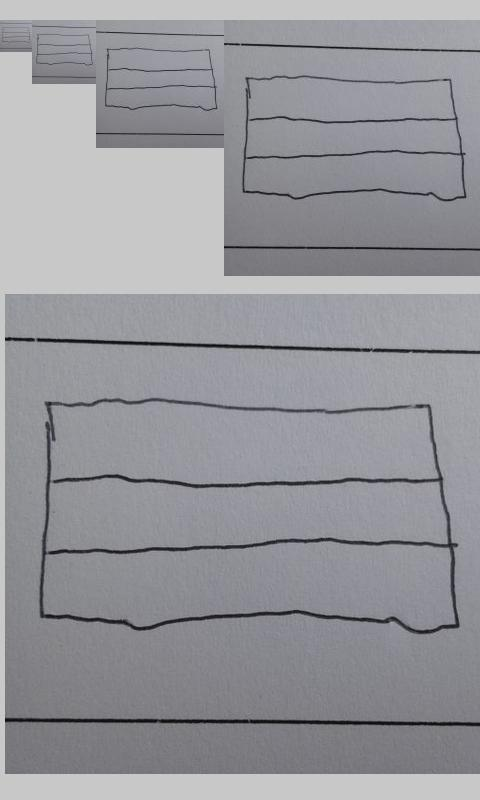list_view: (37, 396, 463, 636), (241, 73, 468, 202), (104, 46, 219, 112), (35, 33, 94, 66), (1, 26, 31, 43)
